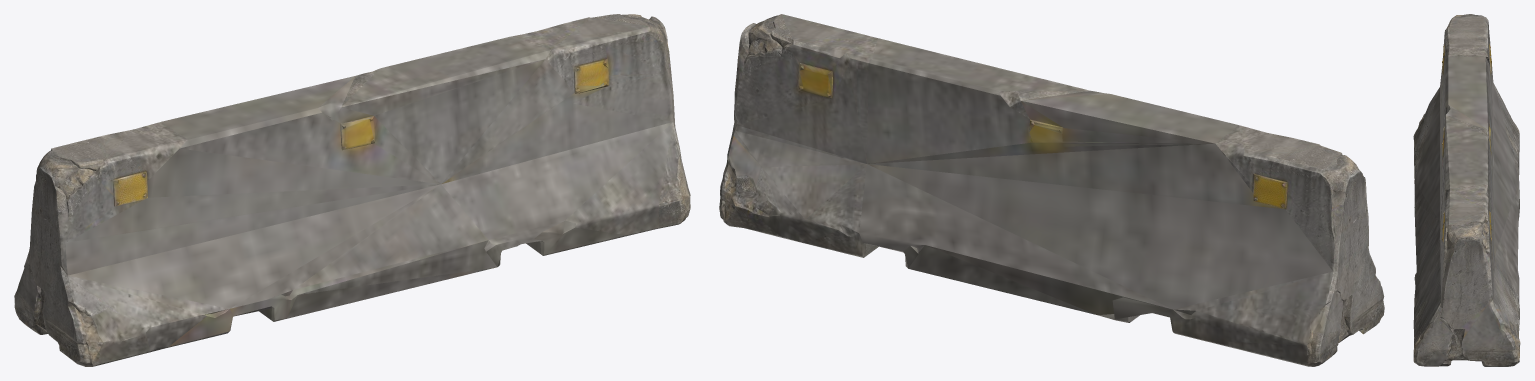
The model's file is prop-barrier.glb.
3 views of the same model, side by side, from view 1: azimuth 30°, elevation 25°; view 2: azimuth 150°, elevation 25°; view 3: azimuth 270°, elevation 25° (orthographic). The views are drawn at different scales.
Parts seen in each view (by area): view 1: output_unwrapped; view 2: output_unwrapped; view 3: output_unwrapped.
Boxes of the visible parts, x1,y1,x2,y2 form: output_unwrapped: (14, 14, 690, 366); output_unwrapped: (719, 14, 1384, 366); output_unwrapped: (1413, 14, 1520, 366).
Size of the model in its own units: 1.9 by 0.5445 by 0.3868.
Materials: 1 (1 with a texture image).
